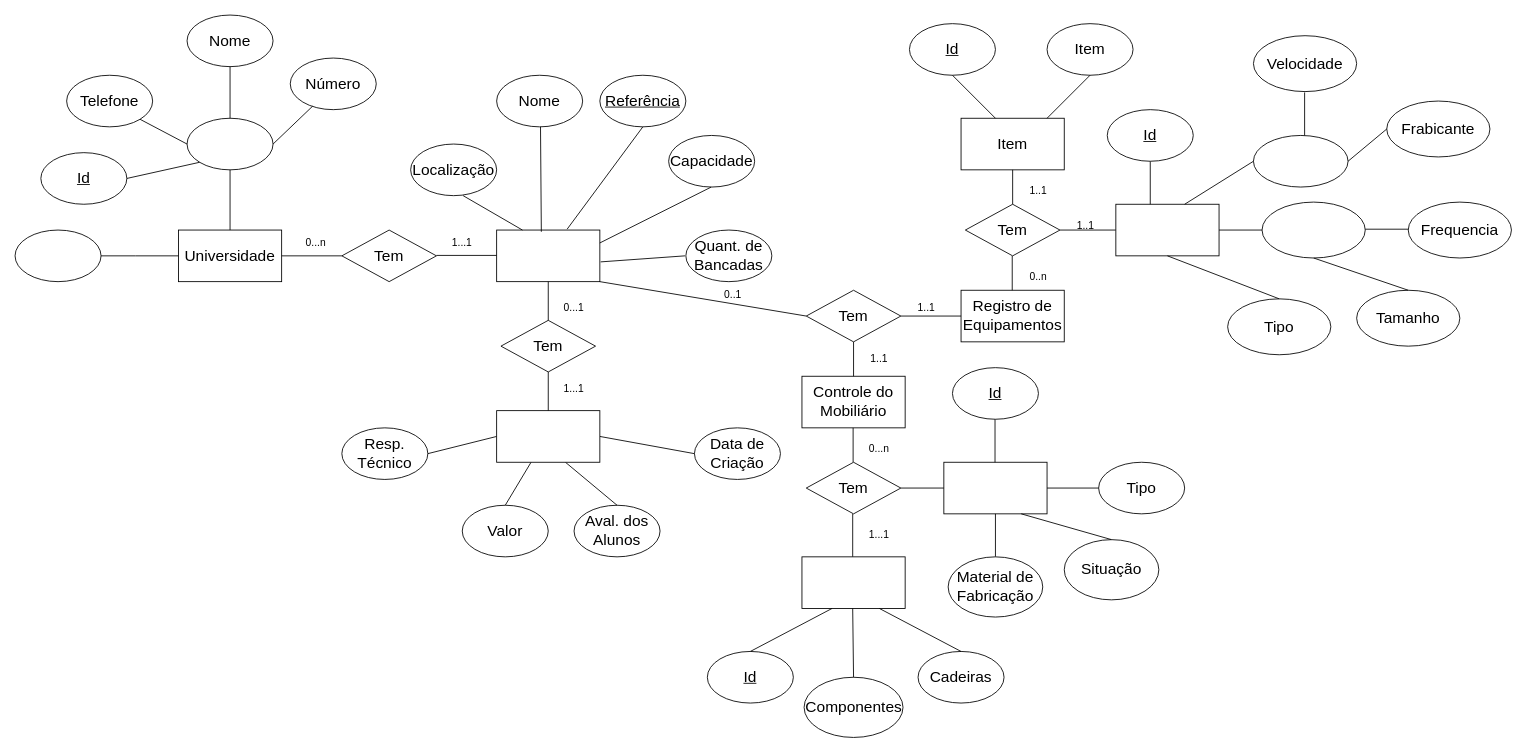
Image size: 1527x753. Some labels were removed from this diagram. The box of each missing label's shape, as (x1, y1, x2, y2) in pixels:
Campus: (186, 117, 273, 170)
Computador: (1115, 203, 1219, 256)
Endereço: (14, 229, 101, 282)
Laboratório: (496, 229, 600, 282)
Memória: (1261, 201, 1365, 258)
Processador: (1253, 135, 1348, 187)
Registro de Bancada: (801, 556, 905, 608)
Registro de Material: (943, 461, 1047, 514)
Suporte Multimídia: (496, 410, 600, 462)
